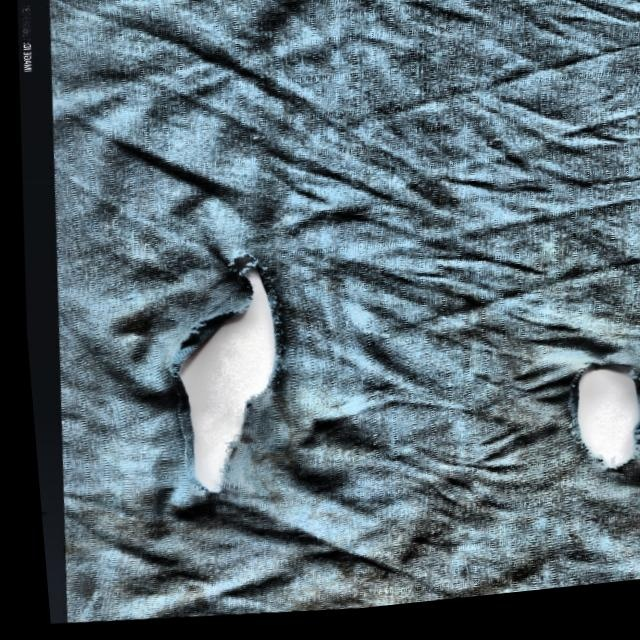Hole: (129, 234, 318, 527), (534, 336, 640, 509)
